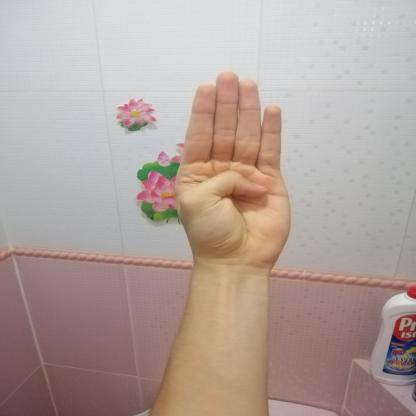KAAF: (153, 62, 316, 274)
